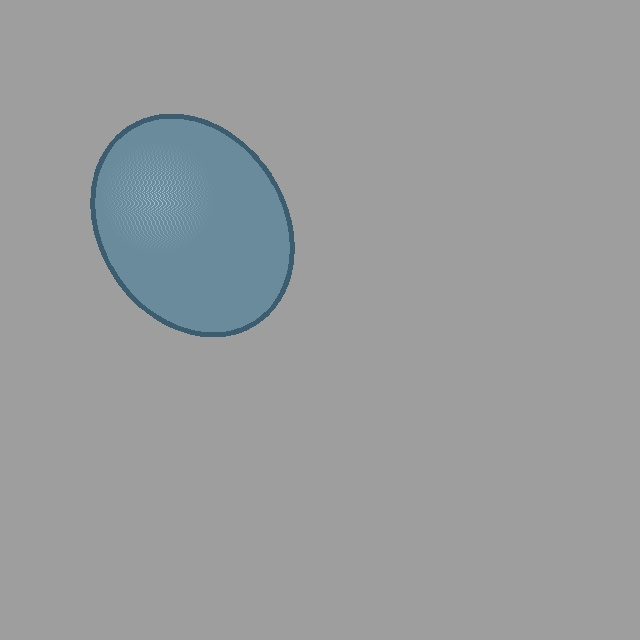lens: (93, 116, 291, 334)
